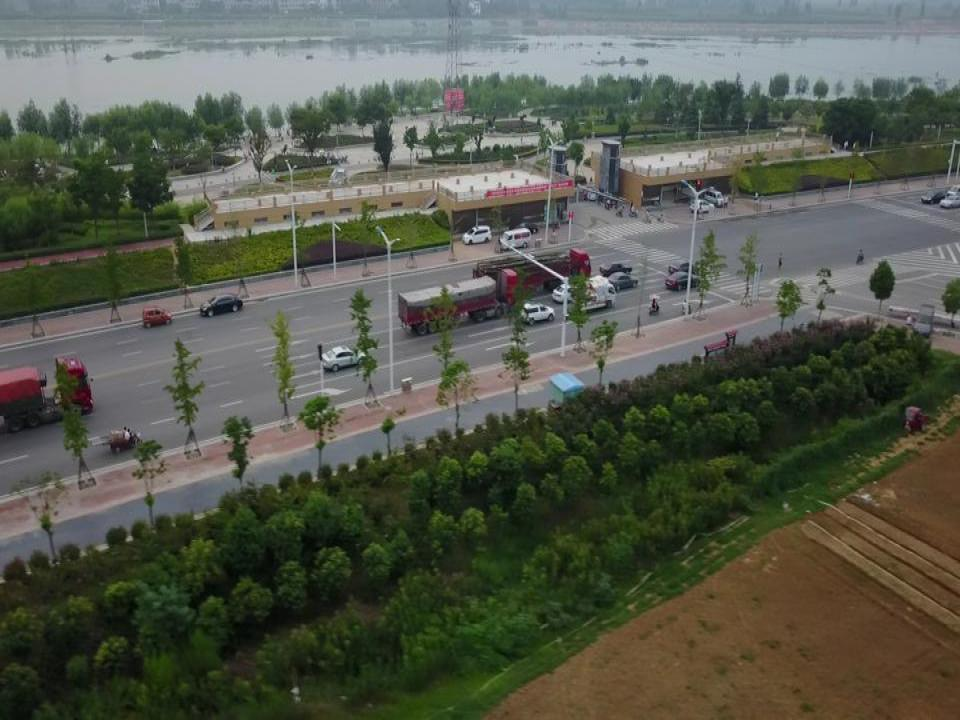car: (320, 345, 367, 372), (200, 294, 243, 318), (913, 301, 935, 340), (664, 269, 700, 292), (521, 302, 555, 326), (551, 281, 584, 303), (142, 306, 172, 330), (604, 271, 638, 292), (461, 224, 491, 245), (598, 260, 633, 276), (668, 260, 700, 276), (508, 220, 539, 235), (921, 190, 946, 206), (689, 199, 715, 213), (939, 194, 960, 210)
truck: (397, 267, 523, 337), (0, 356, 94, 432), (472, 248, 591, 296), (571, 275, 615, 316)
van: (498, 227, 531, 252), (703, 188, 725, 208), (946, 183, 960, 200)
